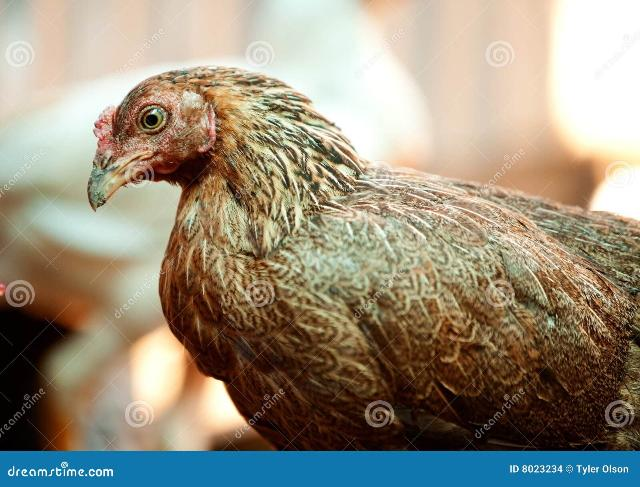Chicken: (87, 67, 640, 451)
